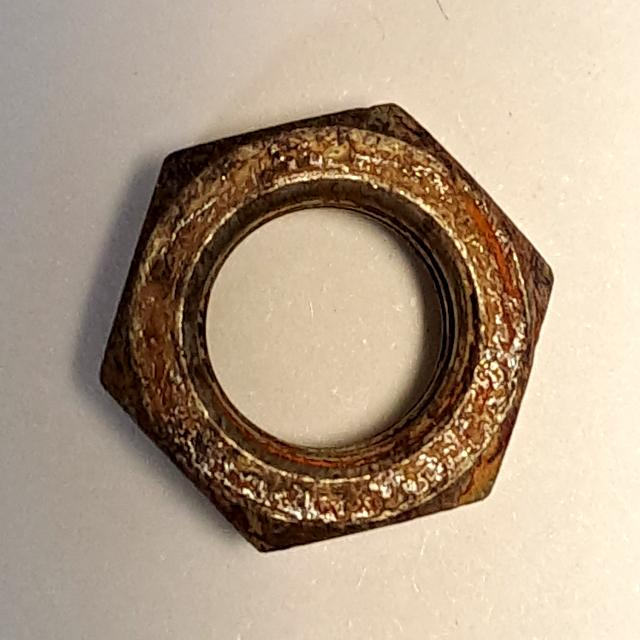Rust: (83, 87, 562, 567)
